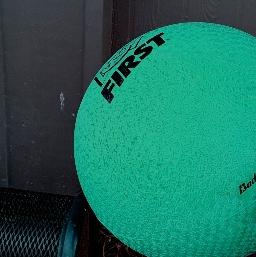algae: (74, 24, 256, 257)
